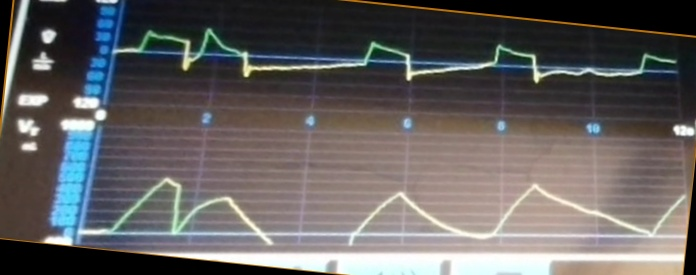Double_Triggering Flow: (119, 25, 674, 107)
Double_Triggering Volume: (94, 165, 684, 250)
